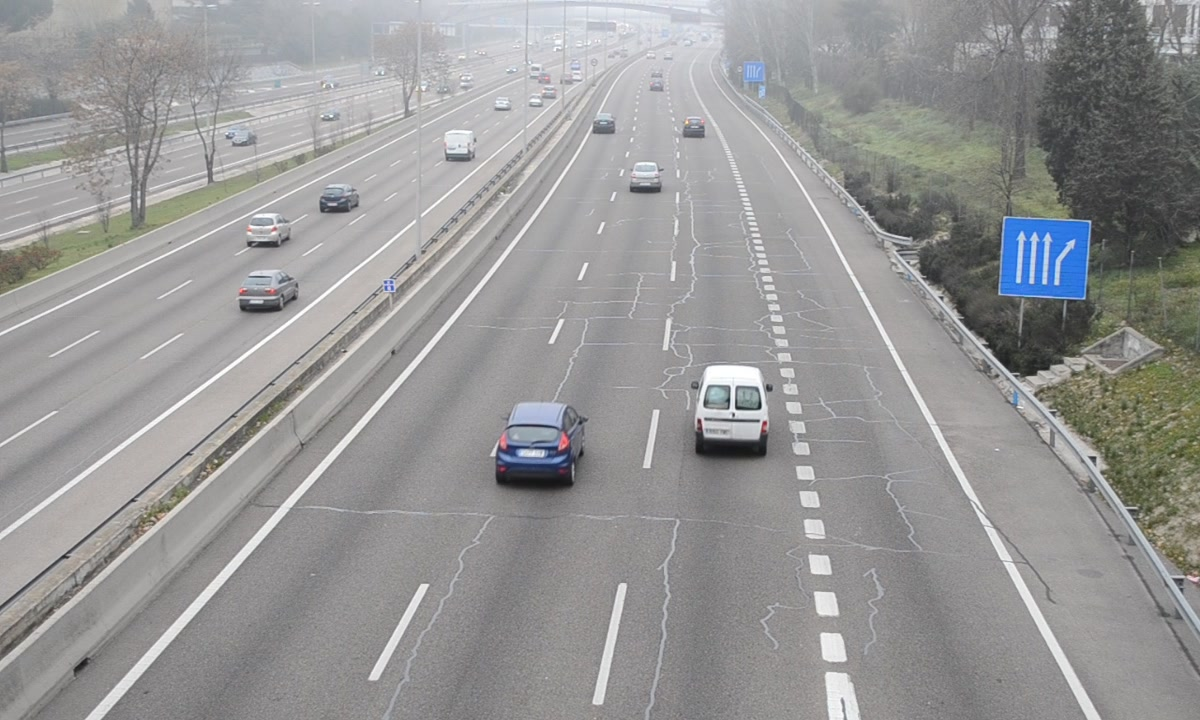car: (497, 401, 581, 484), (629, 161, 663, 193), (591, 111, 617, 136), (681, 116, 707, 138)
van: (693, 365, 769, 452)
